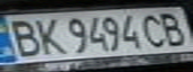4: (118, 11, 145, 50), (84, 14, 109, 52)
9: (60, 15, 90, 54), (103, 14, 124, 52)
B: (0, 16, 45, 58), (154, 10, 193, 47)
C: (136, 10, 172, 49)
K: (27, 15, 66, 56)
